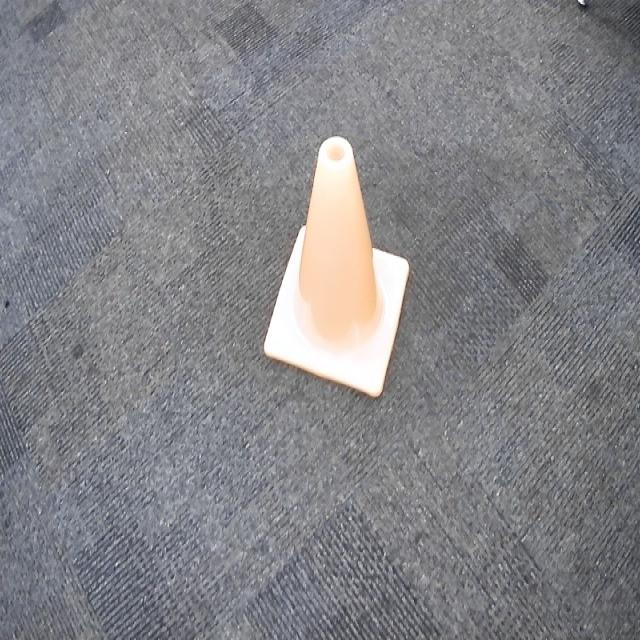cone: (262, 133, 412, 406)
